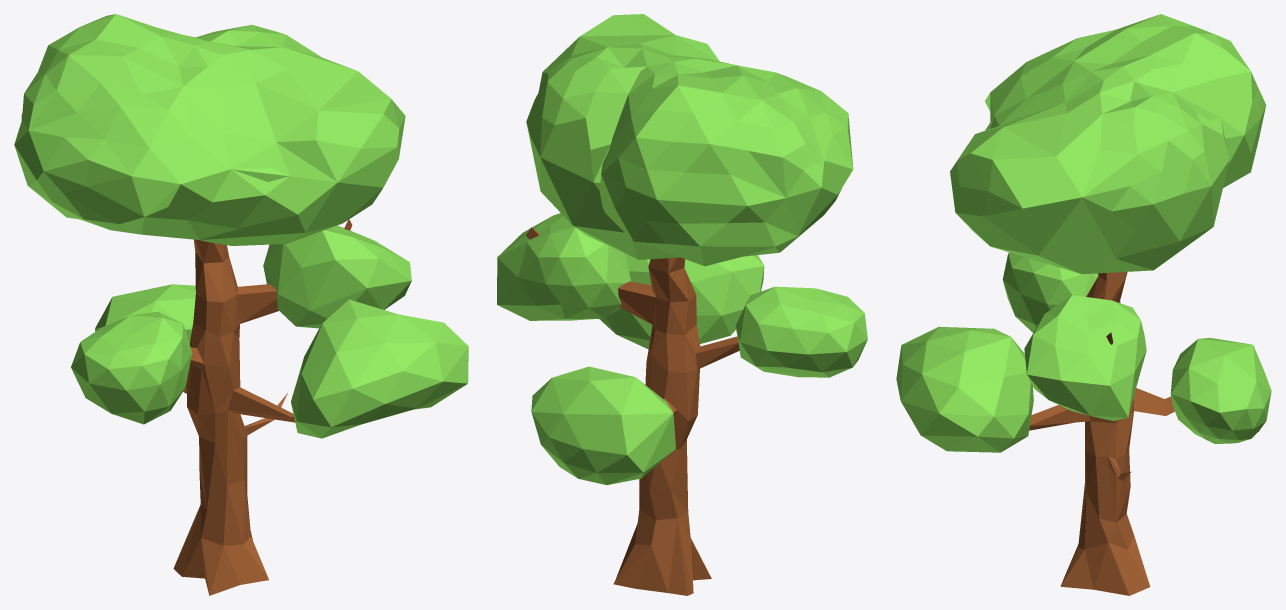
The model's file is Oak3.fbx.
3 views of the same model, side by side, from view 1: azimuth 30°, elevation 25°; view 2: azimuth 150°, elevation 25°; view 3: azimuth 270°, elevation 25° (orthographic). The views are drawn at different scales.
Parts seen in each view (by area): view 1: Oak3; view 2: Oak3; view 3: Oak3.
Part boxes in pixels (x1=…): Oak3: x1=14, y1=14, x2=468, y2=595; Oak3: x1=497, y1=14, x2=867, y2=595; Oak3: x1=896, y1=14, x2=1271, y2=595.
Size of the model in its own units: 3776 by 5626 by 3662.
